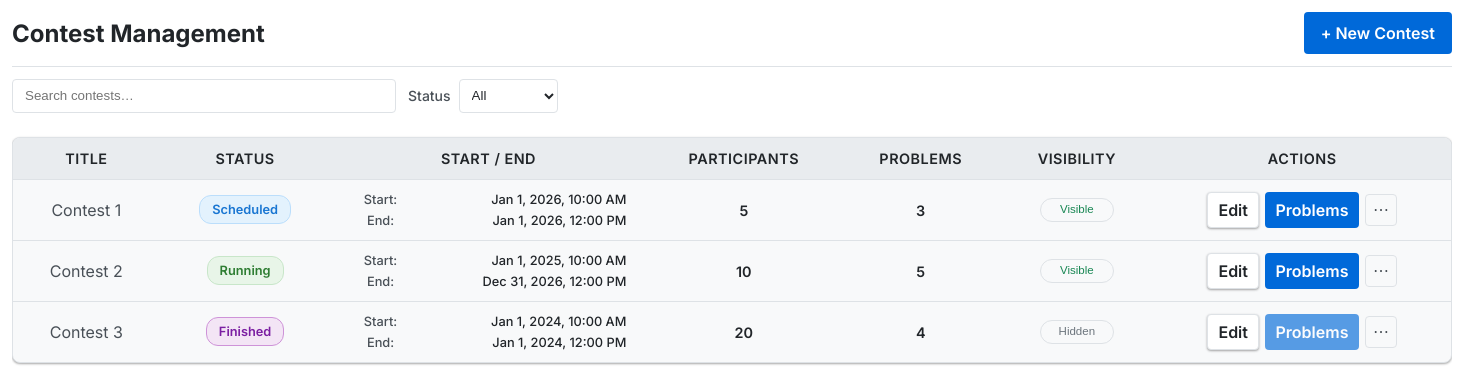
Test: ContestManagement Component › toggles a visible contest to hidden via the row menu and updates the row
Expected: the text "Contest 1" is shown, [13,179,160,240]
Click the button named "row actions for Contest 1": (1381, 210) [1365,194,1397,226]
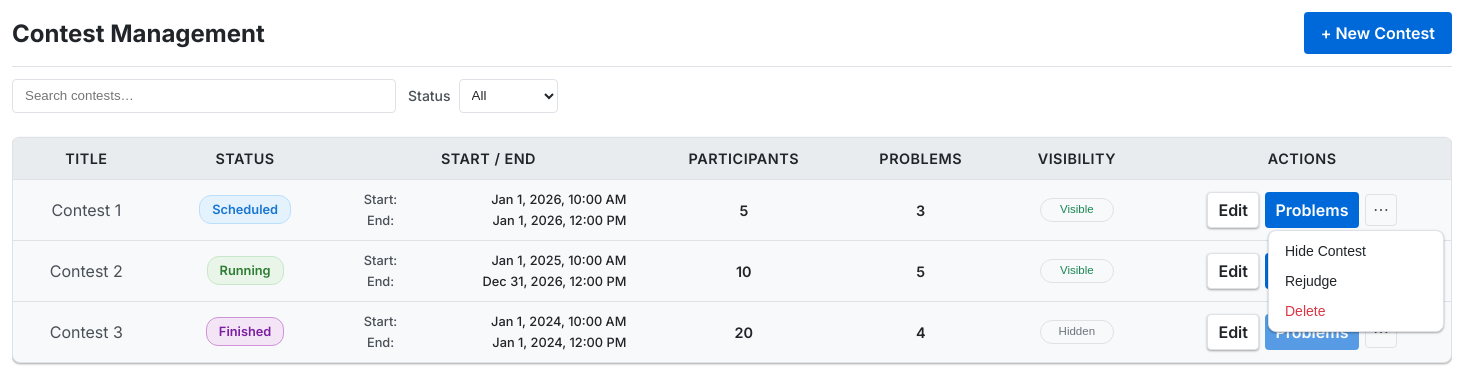
Click the menu item "Hide Contest": (1356, 251) [1274,235,1438,266]
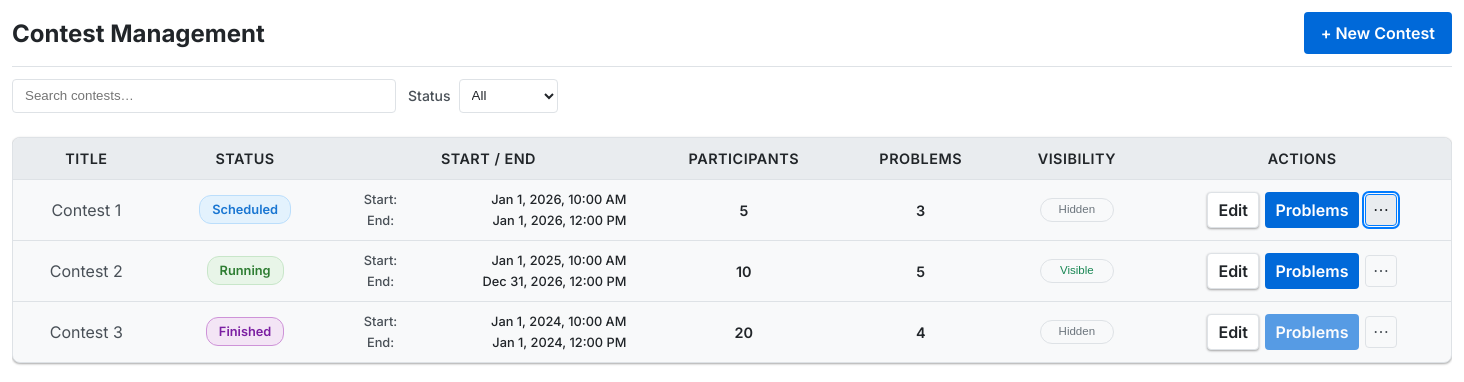
Now the button titled "Hidden — click to show" in the row of "Contest 1" is shown, box [1040,198,1114,222]
